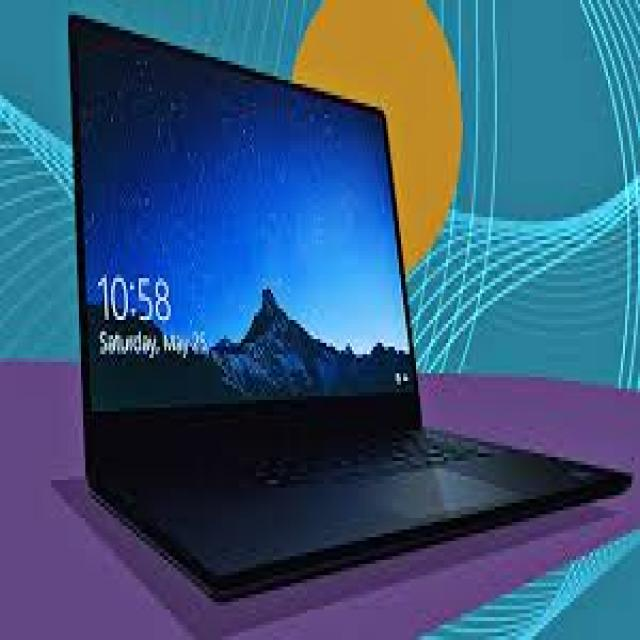others: (62, 8, 636, 606)
